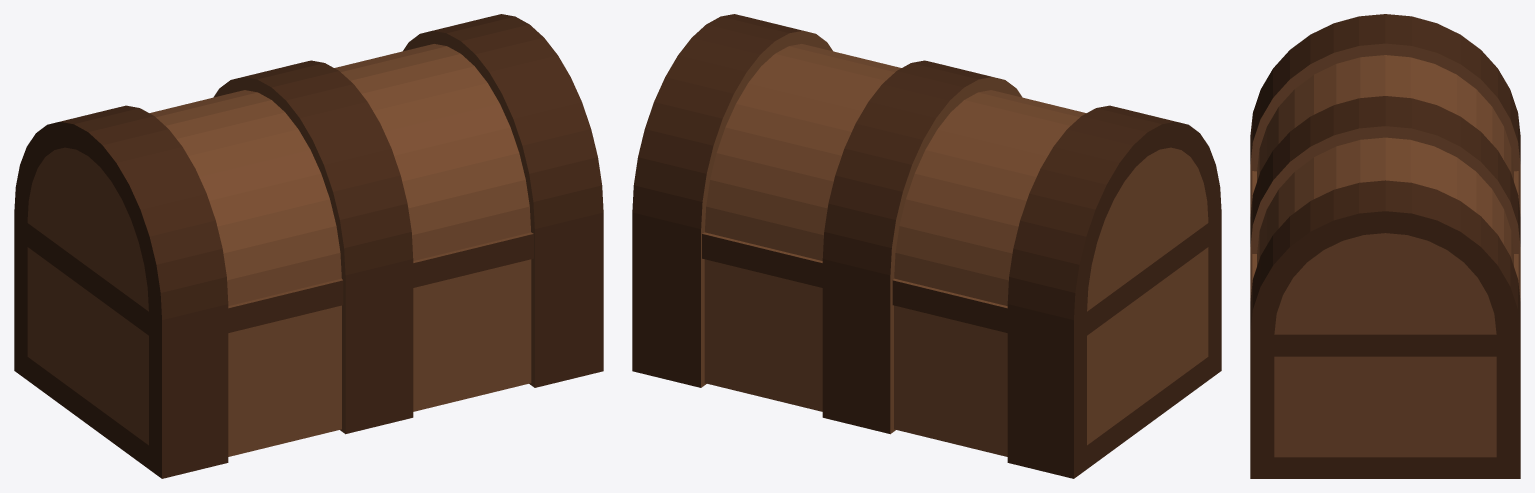
File: chest.fbx
3 views of the same model, side by side, from view 1: azimuth 30°, elevation 25°; view 2: azimuth 150°, elevation 25°; view 3: azimuth 270°, elevation 25° (orthographic). The views are drawn at different scales.
Visible parts, largest first — view 1: Cylinder; view 2: Cylinder; view 3: Cylinder.
Boxes of the visible parts, left/top/right/bottom form: Cylinder: left=14, top=14, right=603, bottom=478; Cylinder: left=632, top=14, right=1221, bottom=478; Cylinder: left=1250, top=14, right=1520, bottom=478.
Bounding box in the file's own units: 363 × 230 × 211.
